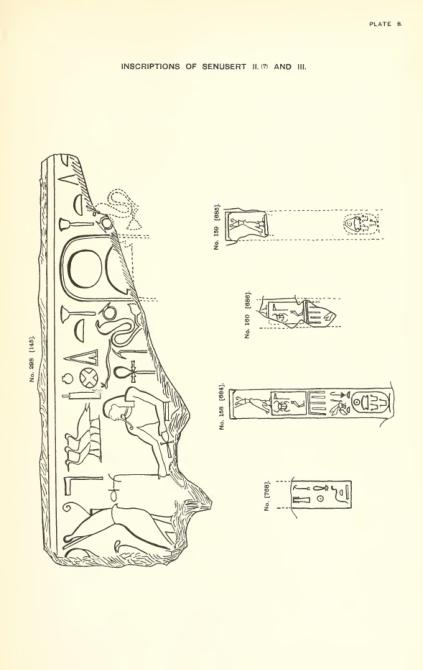circle: (342, 210, 386, 237), (351, 390, 392, 417)
